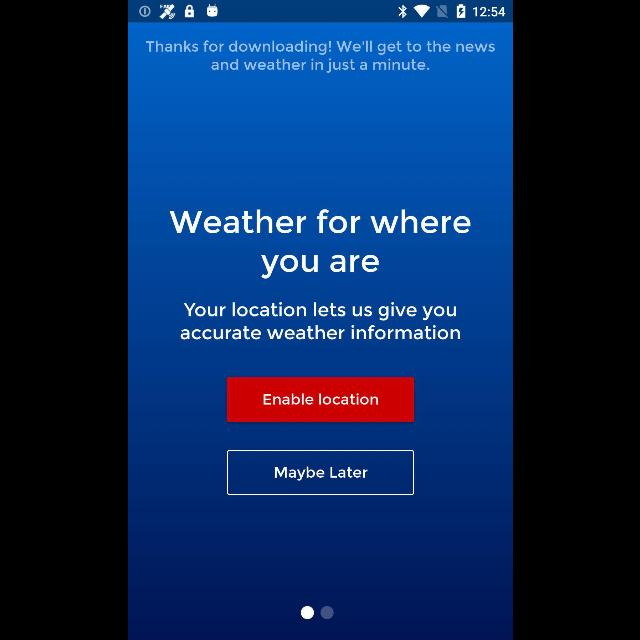pageindicator: (300, 606, 334, 620)
text: (168, 209, 470, 279), (146, 41, 494, 74), (180, 302, 460, 340)
textbutton: (226, 450, 414, 496), (226, 378, 414, 422)
uppertaskbar: (128, 1, 512, 23)
